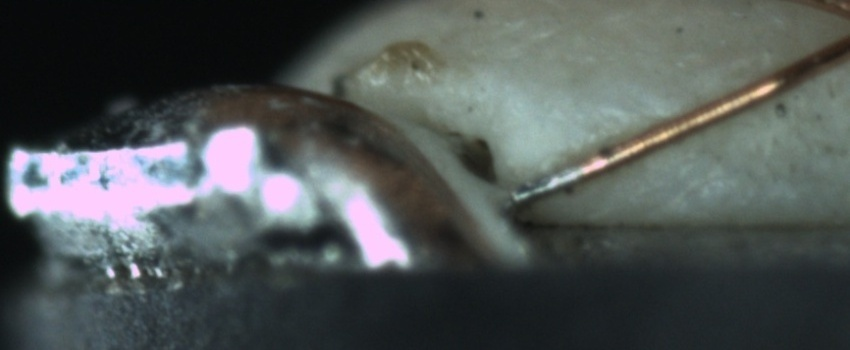TS: (508, 161, 580, 206)
